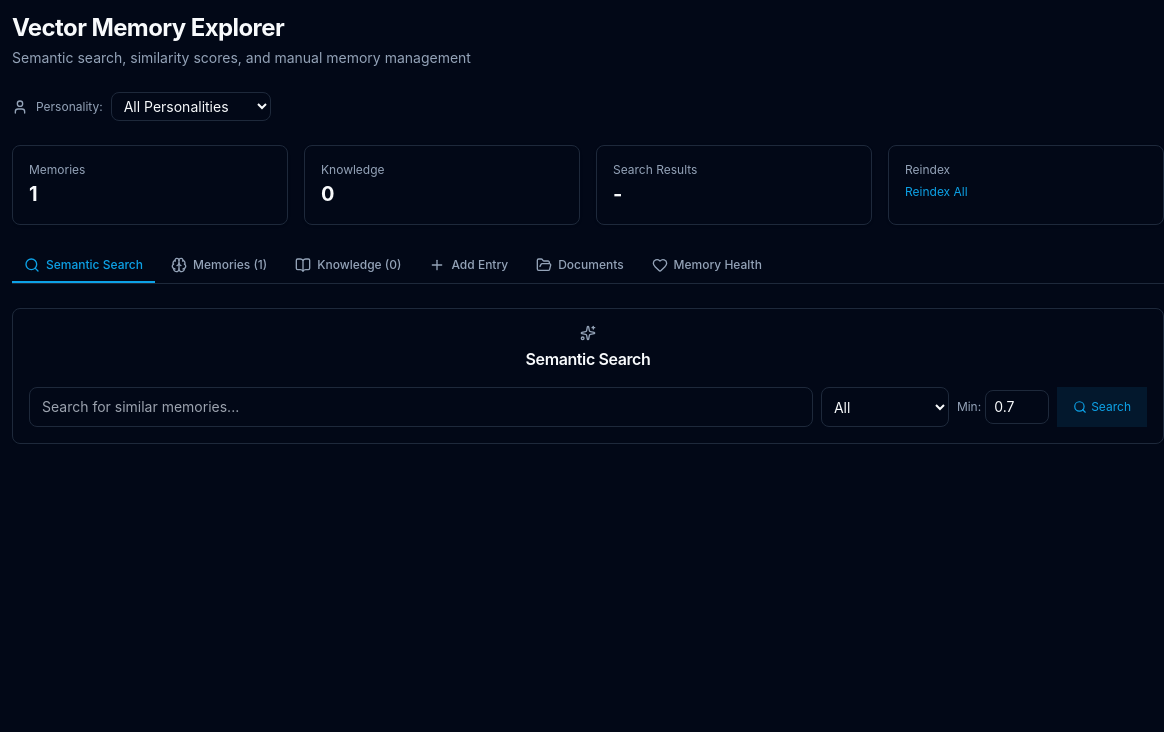
Test: VectorMemoryExplorerPage › switches to Knowledge tab and shows empty state
Click the button "Knowledge (0)": (348, 266) [283, 249, 413, 283]
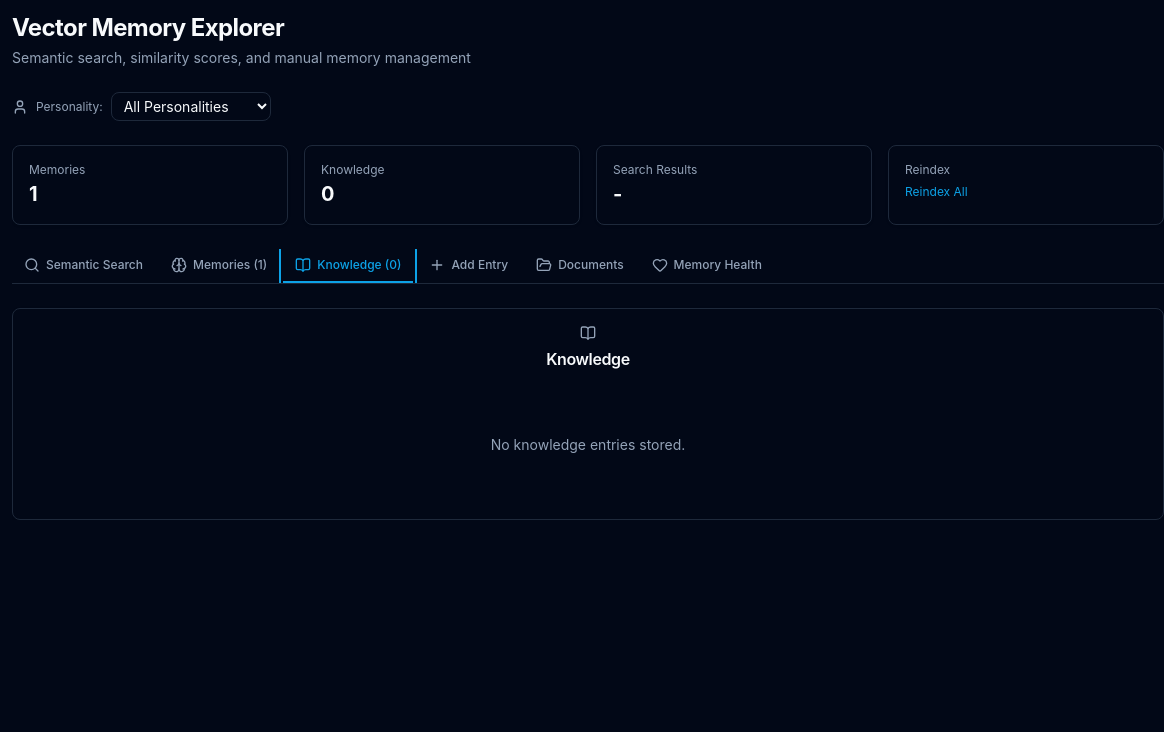
Check: the text "No knowledge entries stored." is shown, box [491, 436, 685, 453]
